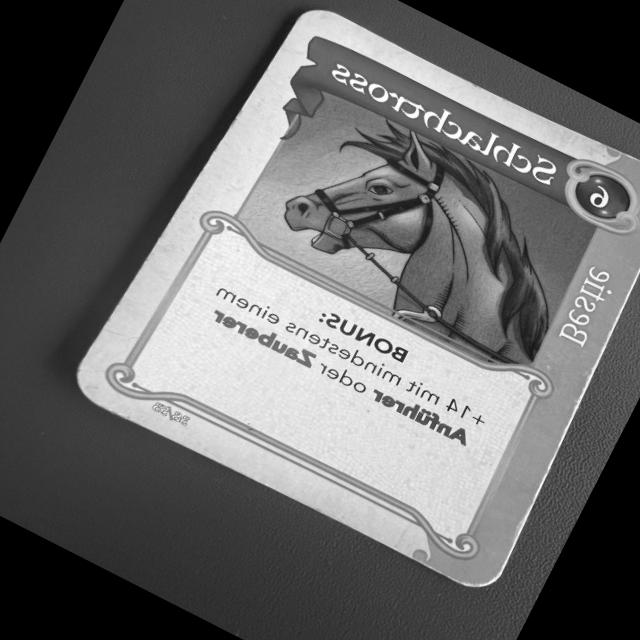War Horse: (59, 0, 640, 600)
